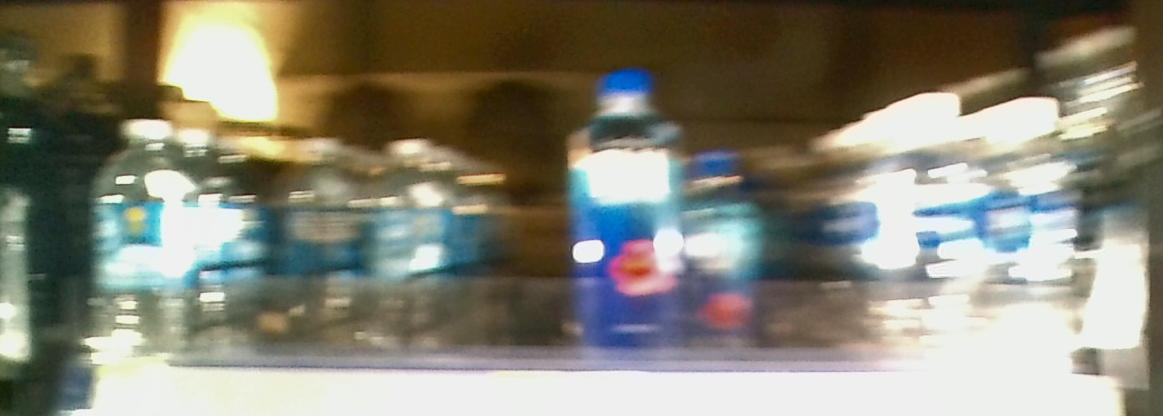bottle: (564, 67, 689, 365), (88, 112, 192, 380), (992, 90, 1086, 366), (895, 85, 983, 367)
